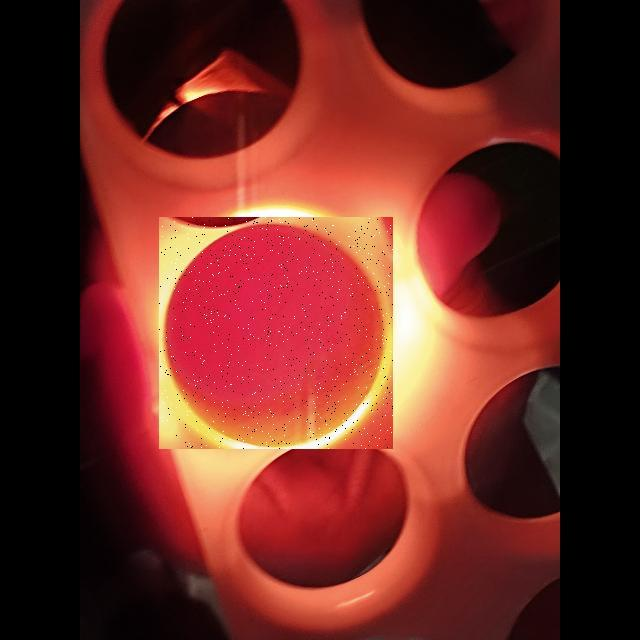Infertile: (159, 217, 393, 449)
